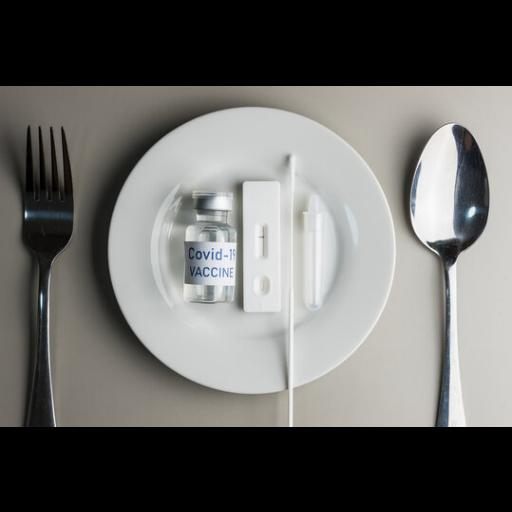Neg: (242, 180, 280, 312)
